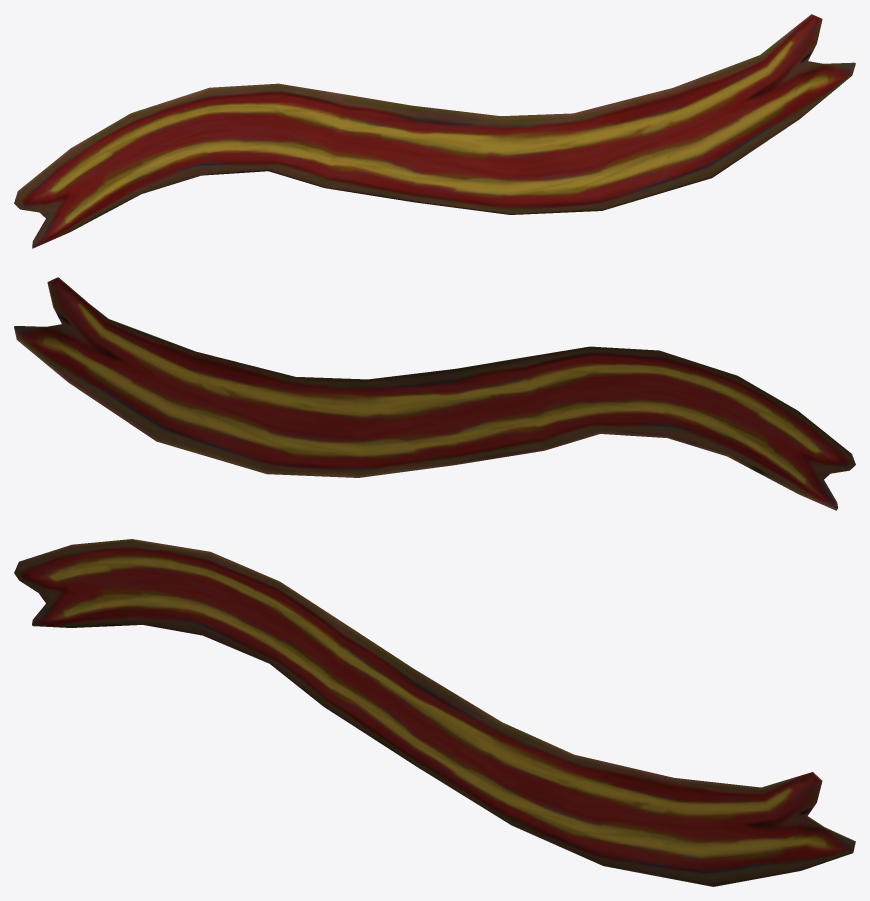
File: CardboardCutout_Banner_RedYellow_Scaled.fbx
3 renders of one model, top to bottom at view 1: azimuth 30°, elevation 25°; view 2: azimuth 150°, elevation 25°; view 3: azimuth 330°, elevation 25°, orthographic.
Parts seen in each view (by area): view 1: Ribbon1; view 2: Ribbon1; view 3: Ribbon1.
Part boxes in pixels (x1=…): Ribbon1: x1=14, y1=14, x2=855, y2=248; Ribbon1: x1=14, y1=277, x2=855, y2=510; Ribbon1: x1=14, y1=539, x2=855, y2=886.
Size of the model in its own units: 409 by 102 by 1.96.
